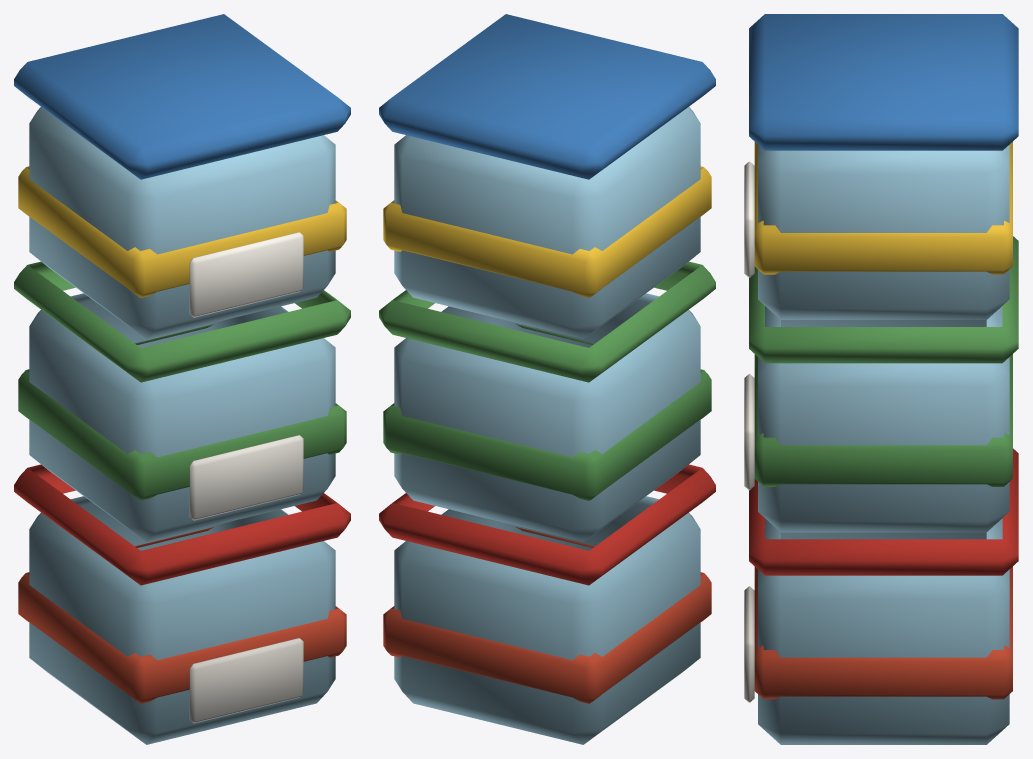
File: FoodTub_Stack_01.glb
The picture shows the model from 3 angles, left to right: view 1: azimuth 30°, elevation 25°; view 2: azimuth 150°, elevation 25°; view 3: azimuth 270°, elevation 25°; orthographic projection. The views are drawn at different scales.
Visible parts, largest first — view 1: SM_FoodTub_Stack_01; view 2: SM_FoodTub_Stack_01; view 3: SM_FoodTub_Stack_01.
Part boxes in pixels (<box>): SM_FoodTub_Stack_01: <box>14,14,350,744</box>; SM_FoodTub_Stack_01: <box>379,14,715,744</box>; SM_FoodTub_Stack_01: <box>744,14,1018,744</box>.
Bounding box in the file's own units: 0.236 × 0.615 × 0.24.
Materials: 1 (1 with a texture image).
